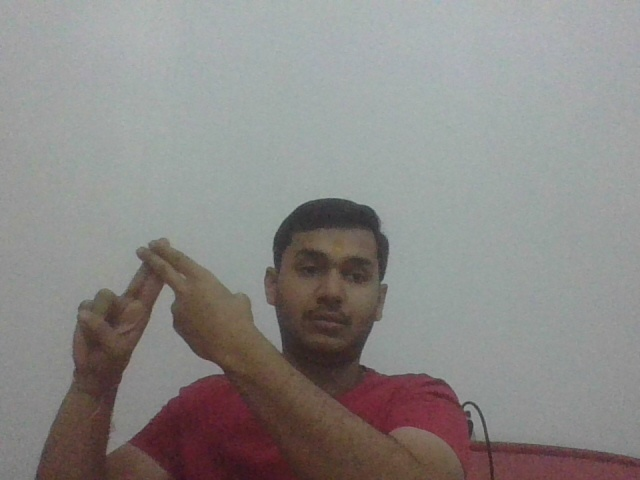F: (70, 236, 251, 368)
